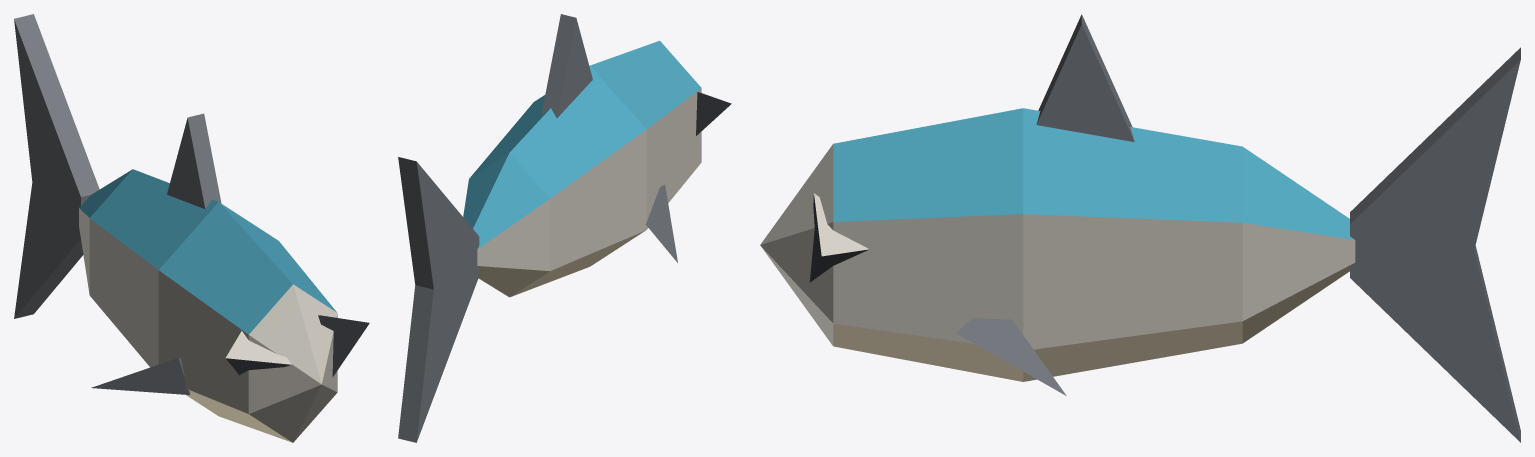
The model's file is fish_minnow.glb.
3 renders of one model, left to right at view 1: azimuth 30°, elevation 25°; view 2: azimuth 150°, elevation 25°; view 3: azimuth 270°, elevation 25°, orthographic. The views are drawn at different scales.
Visible parts, largest first — view 1: fish_minnow; view 2: fish_minnow; view 3: fish_minnow.
Part boxes in pixels (bbox=[...]): fish_minnow: bbox=[14, 14, 369, 442]; fish_minnow: bbox=[398, 14, 731, 442]; fish_minnow: bbox=[760, 14, 1520, 442].
Bounding box in the file's own units: 0.0672 × 0.0945 × 0.1561.
